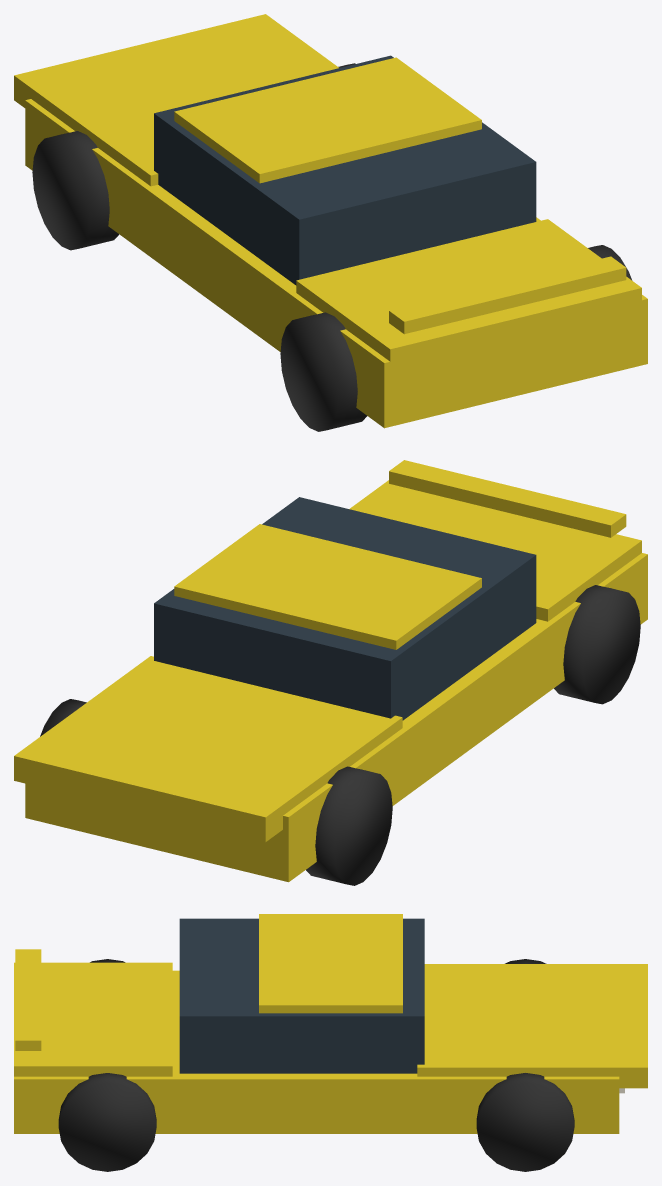
The model's file is car03_coupe.fbx.
The picture shows the model from 3 angles, top to bottom: view 1: azimuth 30°, elevation 25°; view 2: azimuth 150°, elevation 25°; view 3: azimuth 270°, elevation 25°; orthographic projection. The views are drawn at different scales.
Parts seen in each view (by area): view 1: Coupe; view 2: Coupe; view 3: Coupe.
Boxes of the visible parts, <box> form: Coupe: <box>14,14,647,431</box>; Coupe: <box>14,460,647,885</box>; Coupe: <box>14,914,647,1171</box>.
Size of the model in its own units: 204 by 115 by 440.
